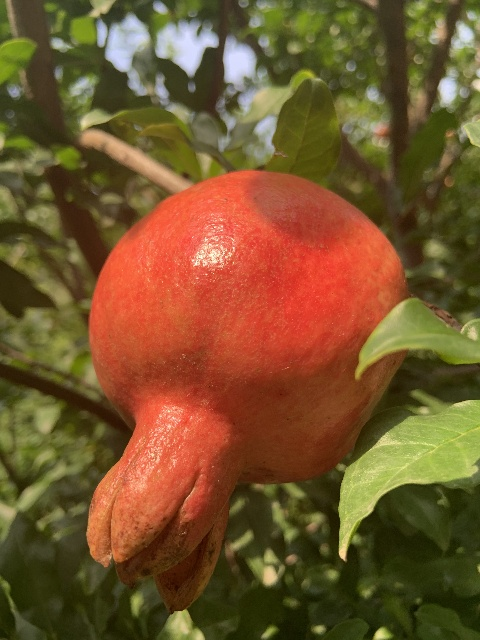ripe: (83, 169, 412, 611)
